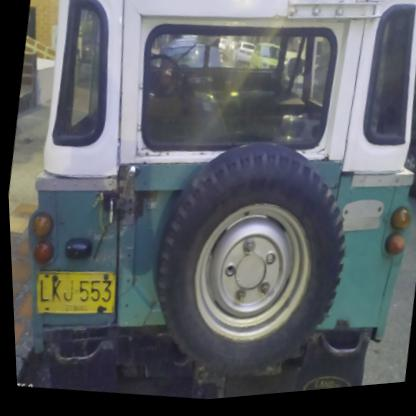placa: (23, 258, 121, 330)
